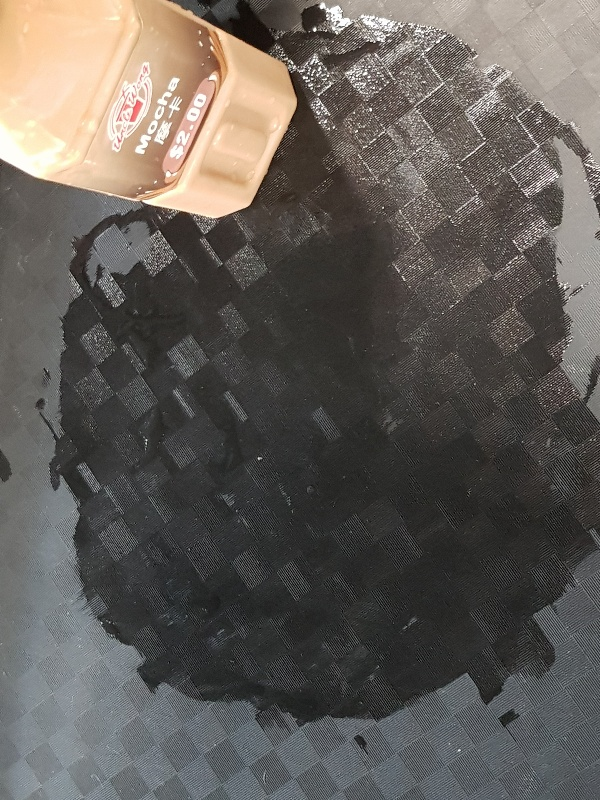Mocha: (1, 1, 299, 217)
